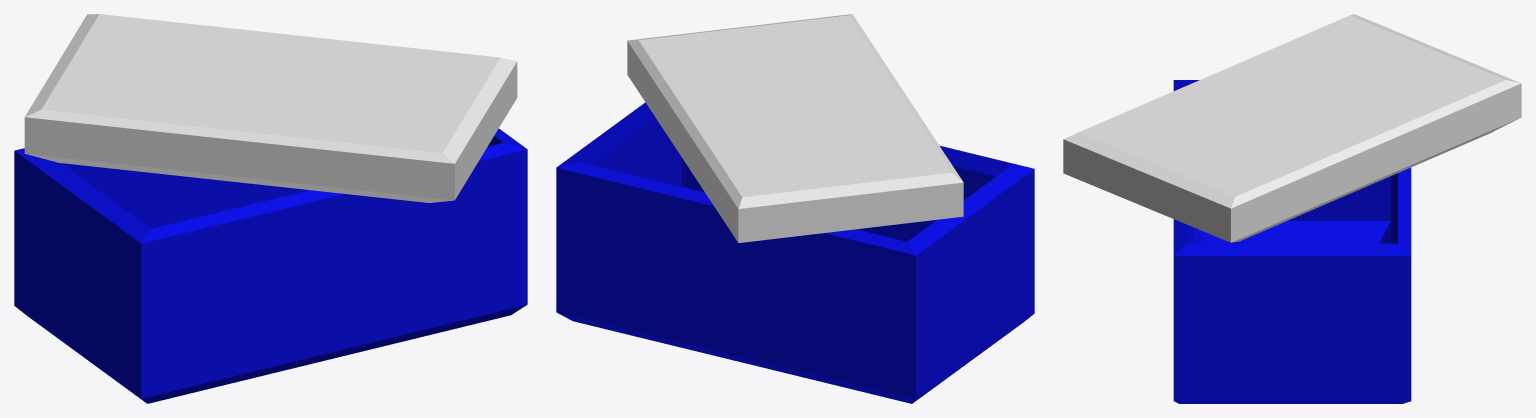
The model's file is cooler.fbx.
3 renders of one model, left to right at view 1: azimuth 30°, elevation 25°; view 2: azimuth 150°, elevation 25°; view 3: azimuth 270°, elevation 25°, orthographic. The views are drawn at different scales.
Visible parts, largest first — view 1: Cube.009, Cube.010; view 2: Cube.009, Cube.010; view 3: Cube.010, Cube.009.
Boxes of the visible parts, bbox=[...] form: Cube.009: bbox=[14, 128, 527, 403]; Cube.010: bbox=[24, 14, 517, 202]; Cube.009: bbox=[556, 102, 1034, 403]; Cube.010: bbox=[627, 14, 963, 242]; Cube.010: bbox=[1063, 14, 1521, 242]; Cube.009: bbox=[1173, 80, 1411, 403].
Bounding box in the file's own units: 576 × 298 × 573.
